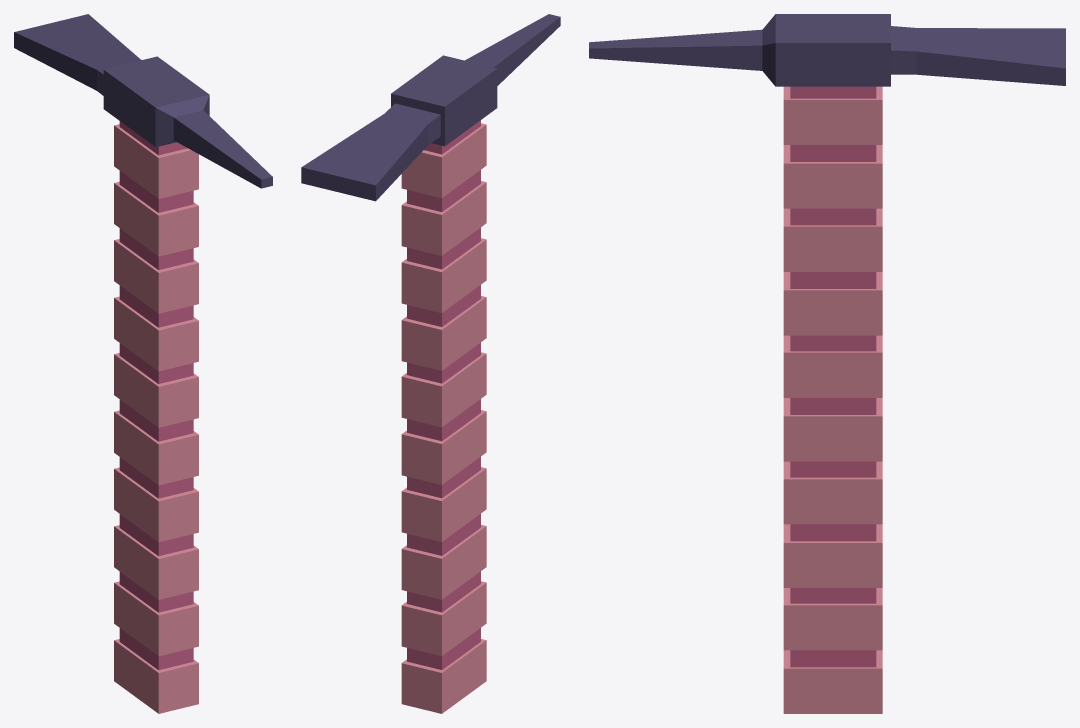
Rendered from stonePickaxe.glb.
The picture shows the model from 3 angles, left to right: view 1: azimuth 30°, elevation 25°; view 2: azimuth 150°, elevation 25°; view 3: azimuth 270°, elevation 25°; orthographic projection. The views are drawn at different scales.
Visible parts, largest first — view 1: Cube.008, Cube.005, Cube.002, Cube.011, Cube.014, Cube.019, Cube.001, Cube.010, Cube.006, Cube.015, Cube.018, Cube (+9 smaller); view 2: Cube.008, Cube.002, Cube.006, Cube.011, Cube.014, Cube.015, Cube.001, Cube.005, Cube.010, Cube.019, Cube.018, Cube.007 (+8 smaller); view 3: Cube.008, Cube.005, Cube.002, Cube.001, Cube.006, Cube.010, Cube.015, Cube.019, Cube.011, Cube.014, Cube.018, Cube (+9 smaller).
Boxes of the visible parts, x1,y1,x2,y2 form: Cube.008: (14, 14, 272, 188); Cube.005: (114, 467, 198, 542); Cube.002: (114, 581, 198, 656); Cube.011: (114, 239, 198, 313); Cube.014: (114, 353, 198, 427); Cube.019: (114, 181, 198, 256); Cube.001: (114, 639, 198, 713); Cube.010: (114, 296, 198, 371); Cube.006: (114, 525, 198, 599); Cube.015: (114, 410, 198, 485); Cube.018: (114, 124, 198, 198); Cube: (119, 628, 193, 670); Cube.008: (301, 14, 560, 201); Cube.002: (401, 581, 486, 656); Cube.006: (401, 524, 486, 599); Cube.011: (401, 238, 486, 313); Cube.014: (401, 352, 486, 427); Cube.015: (401, 410, 486, 484); Cube.001: (401, 639, 486, 713); Cube.005: (401, 467, 486, 541); Cube.010: (401, 296, 486, 370); Cube.019: (401, 181, 486, 255); Cube.018: (401, 123, 486, 198); Cube.007: (407, 514, 480, 555); Cube.008: (589, 14, 1065, 86); Cube.005: (783, 461, 882, 524); Cube.002: (783, 588, 882, 650); Cube.001: (783, 650, 882, 713); Cube.006: (783, 524, 882, 587); Cube.010: (783, 272, 882, 335); Cube.015: (783, 398, 882, 461); Cube.019: (783, 145, 882, 208); Cube.011: (783, 208, 882, 271); Cube.014: (783, 335, 882, 397); Cube.018: (783, 86, 882, 144); Cube: (790, 650, 876, 667).
Bounding box in the file's own units: 1.32 × 10.39 × 6.66.
Materials: 1 (1 with a texture image).
